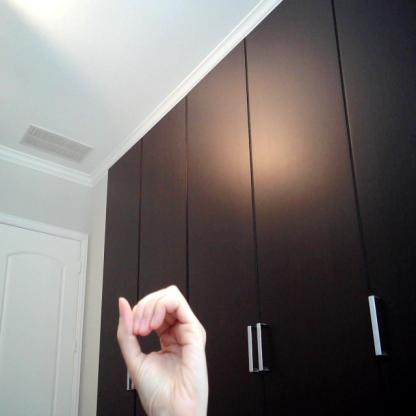zero: (111, 284, 224, 415)
